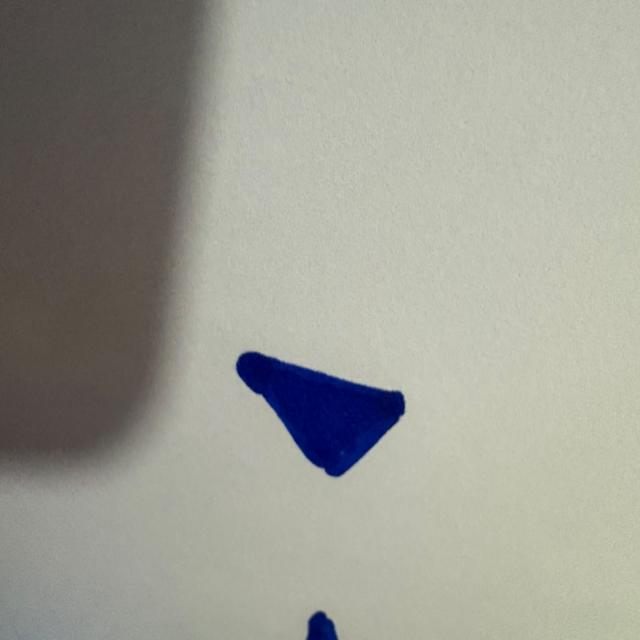Triangle: (236, 351, 405, 477)
